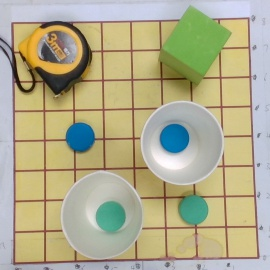blue: (66, 122, 95, 153)
cup_blue: (139, 100, 225, 187)
cup_green: (58, 170, 145, 261)
green: (178, 195, 209, 224)
